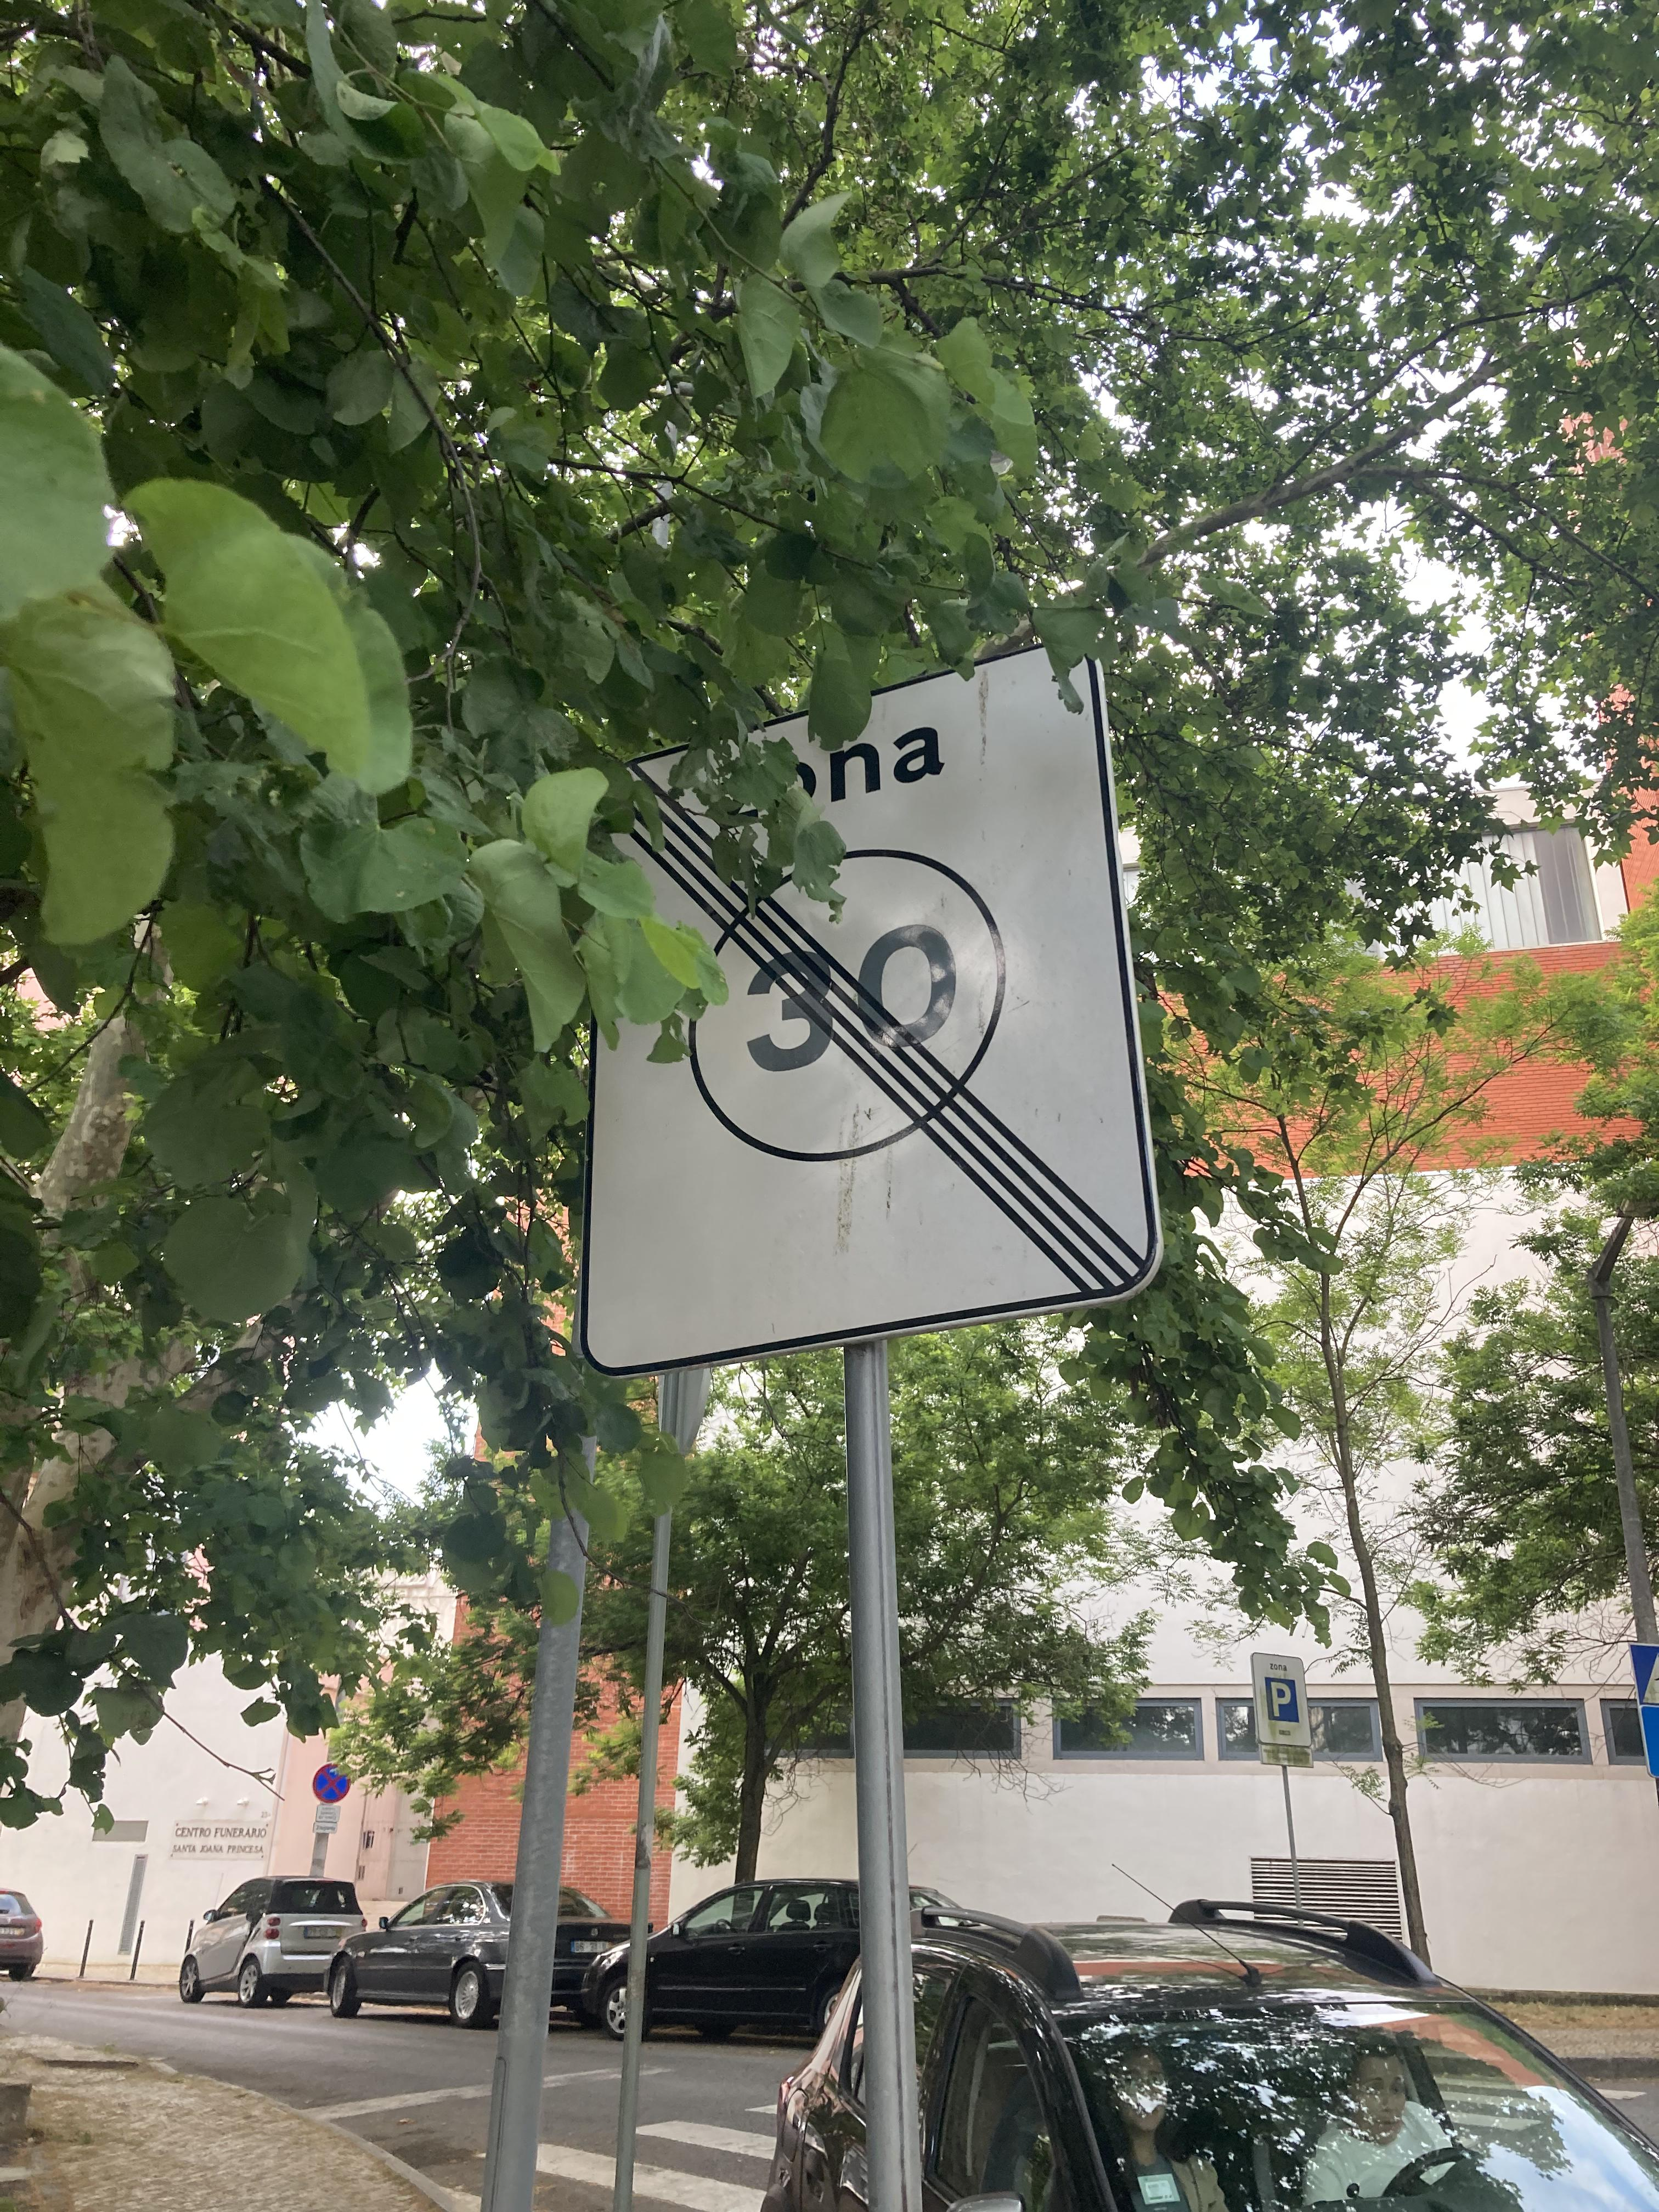fim de zona de velocidade limitada: (505, 719, 1239, 1388)
